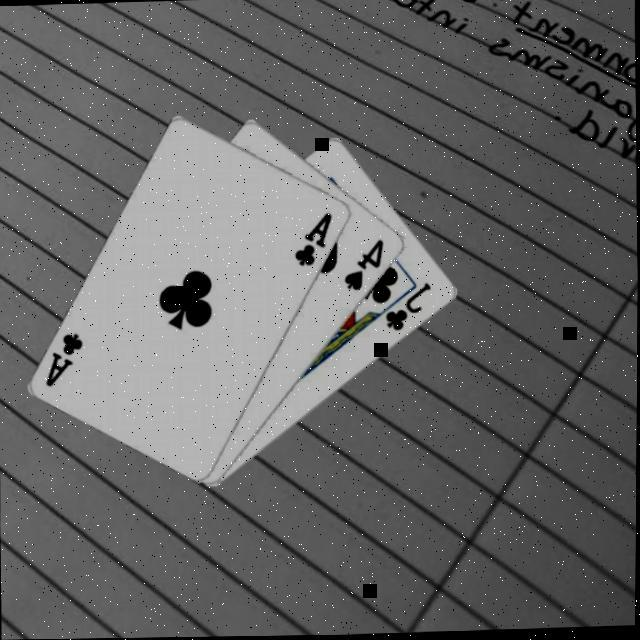4S: (342, 235, 390, 293)
AC: (292, 208, 338, 269), (44, 328, 89, 389)
JC: (384, 278, 436, 334)
